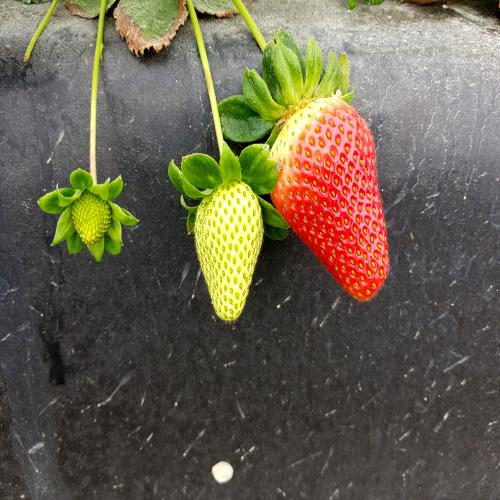ripe: (268, 72, 408, 323)
unripe: (186, 165, 266, 330)
